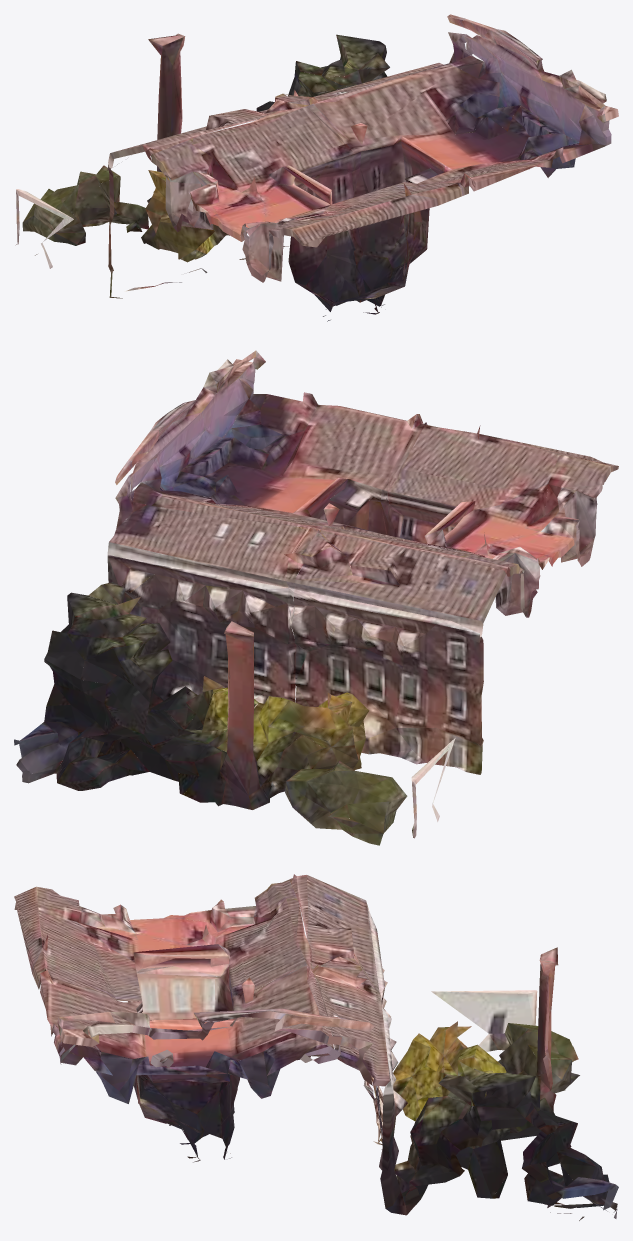
3 renders of one model, top to bottom at view 1: azimuth 30°, elevation 25°; view 2: azimuth 150°, elevation 25°; view 3: azimuth 270°, elevation 25°, orthographic. The views are drawn at different scales.
Parts seen in each view (by area): view 1: Mesh_0; view 2: Mesh_0; view 3: Mesh_0.
Boxes of the visible parts, x1,y1,x2,y2 form: Mesh_0: [15, 14, 618, 321]; Mesh_0: [14, 350, 618, 845]; Mesh_0: [14, 874, 618, 1220].
Bounding box in the file's own units: 33.31 × 18.19 × 41.4.
Materials: 2 (2 with a texture image).
